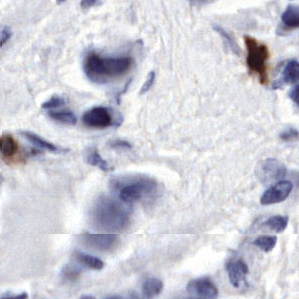Lymphocyte: (240, 30, 274, 83)
